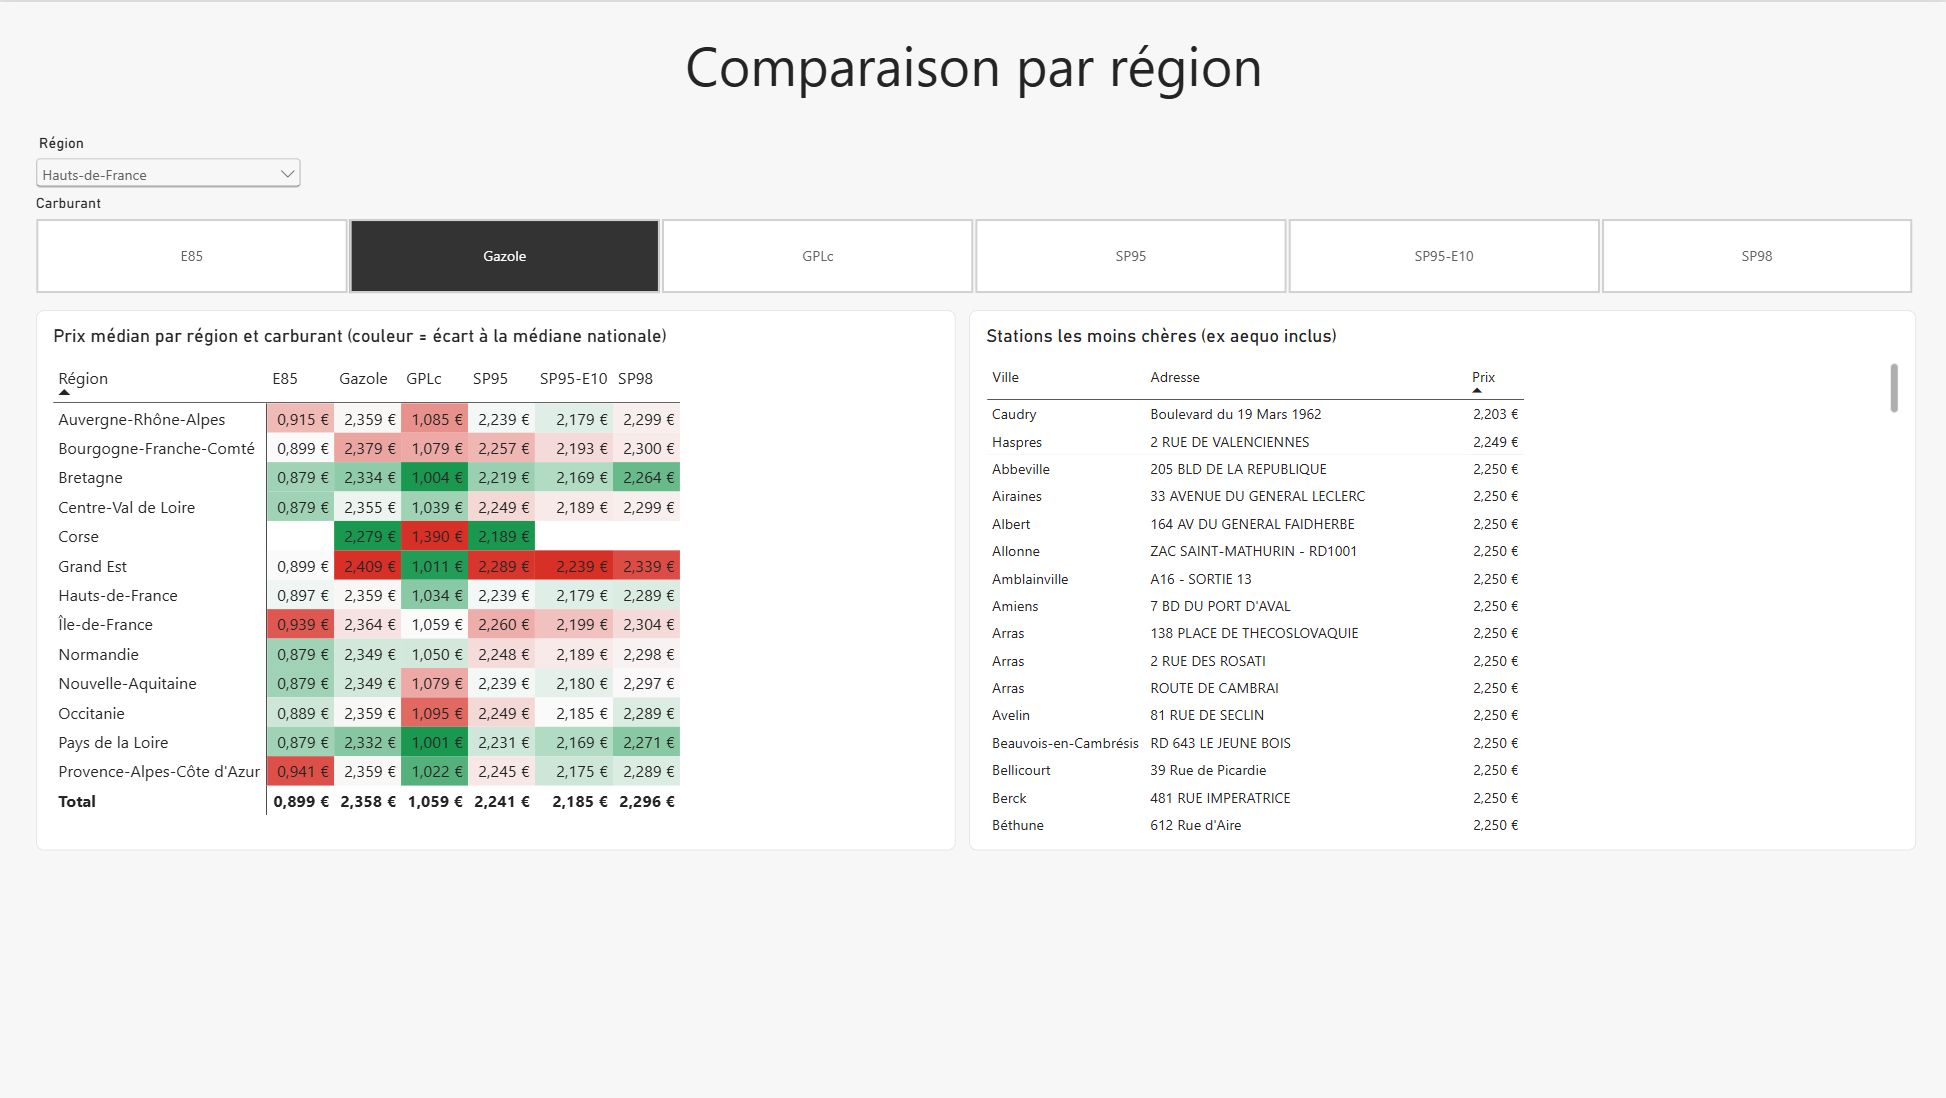

What the dashboard file says about the page in this screenshot:
{"tool":"powerbi","page":{"name":"Régions","canvas":[1920,1080],"ordinal":1},"visuals":[{"type":"pivotTable","title":"Prix médian par région et carburant (couleur = écart à la médiane nationale)","fields":{"Columns":["Prix.Carburant"],"Rows":["Stations.region"],"Values":["_Mesures.Prix médian actuel"]},"box":[36.5,303.7,907.2,533.5],"z":0},{"type":"slicer","title":"Région","fields":{"Values":["Stations.region"]},"box":[31.6,131.2,271.2,57.2],"z":1000},{"type":"tableEx","title":"Stations les moins chères (ex aequo inclus)","fields":{"Values":["Stations.ville","Stations.adresse","_Mesures.Prix médian actuel"]},"box":[956.5,303.7,933.9,533.5],"z":2000},{"type":"slicer","fields":{"Values":["Prix.Carburant"]},"box":[15.8,212,1890.4,76.9],"z":3000},{"type":"textbox","box":[19.7,24.6,1883.6,80.6],"z":4000},{"type":"textbox","box":[36.5,188.4,97.6,23.7],"z":5000}]}

Visuals, with their boxes in screenshot pixels (x1, y1, x2, y2), scaled from the page's 1920x1080 canvas onto the 1946x1098 screenshot:
"Prix médian par région et carburant (couleur = écart à la médiane nationale)" pivotTable: [37, 309, 956, 851]
"Région" slicer: [32, 133, 307, 192]
"Stations les moins chères (ex aequo inclus)" tableEx: [969, 309, 1916, 851]
slicer - Prix.Carburant: [16, 216, 1932, 294]
textbox: [20, 25, 1929, 107]
textbox: [37, 192, 136, 216]
